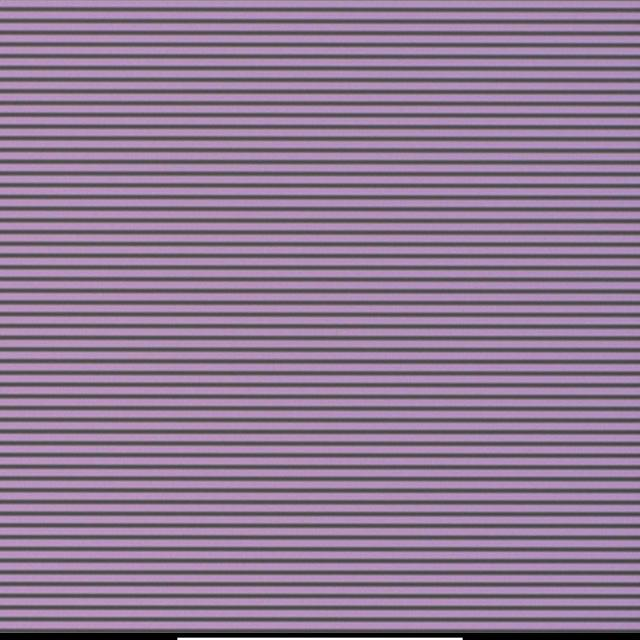nonvisual: (304, 319, 318, 333)
